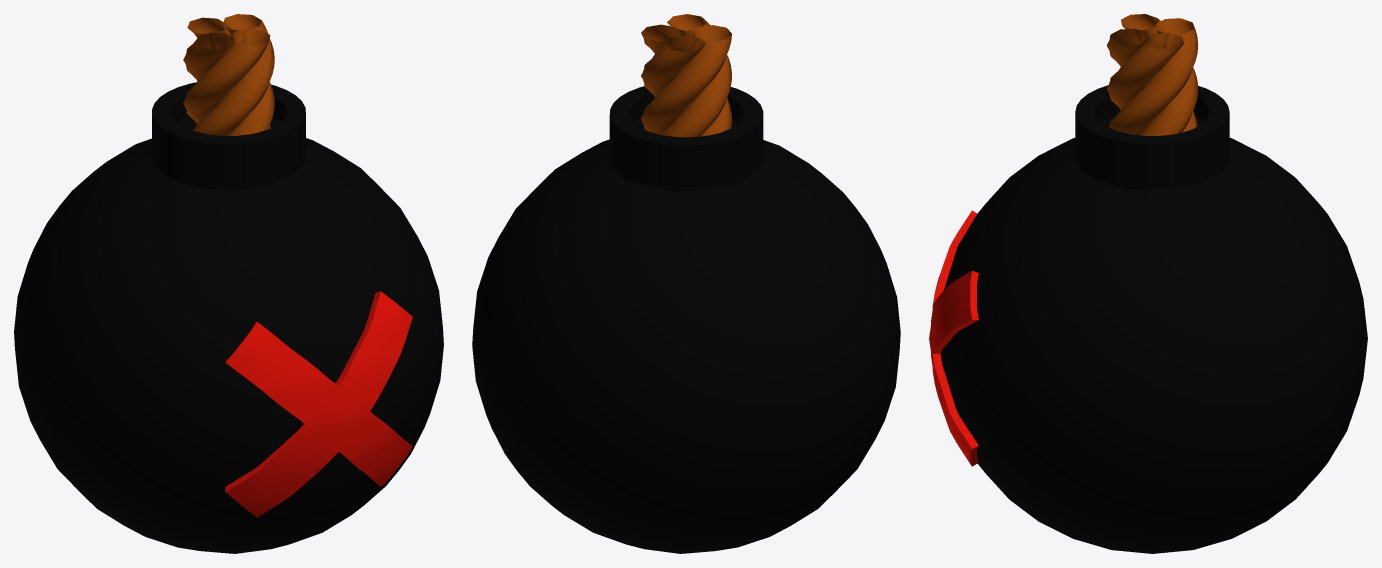
Rendered from Bomb.fbx.
The picture shows the model from 3 angles, left to right: view 1: azimuth 30°, elevation 25°; view 2: azimuth 150°, elevation 25°; view 3: azimuth 270°, elevation 25°; orthographic projection.
Parts seen in each view (by area): view 1: Cube.002, Plane.001, Cylinder.001, Rope.001; view 2: Cube.002, Cylinder.001, Rope.001; view 3: Cube.002, Cylinder.001, Rope.001, Plane.001.
Boxes of the visible parts, left/top/right/bottom form: Cube.002: left=14, top=138, right=443, bottom=553; Plane.001: left=225, top=291, right=412, bottom=517; Cylinder.001: left=152, top=82, right=305, bottom=189; Rope.001: left=183, top=14, right=274, bottom=135; Cube.002: left=472, top=139, right=900, bottom=553; Cylinder.001: left=609, top=86, right=763, bottom=191; Rope.001: left=641, top=14, right=731, bottom=137; Cube.002: left=940, top=138, right=1367, bottom=553; Cylinder.001: left=1075, top=85, right=1229, bottom=189; Rope.001: left=1107, top=14, right=1198, bottom=135; Plane.001: left=929, top=210, right=978, bottom=466.
Size of the model in its own units: 171 by 220 by 174.
